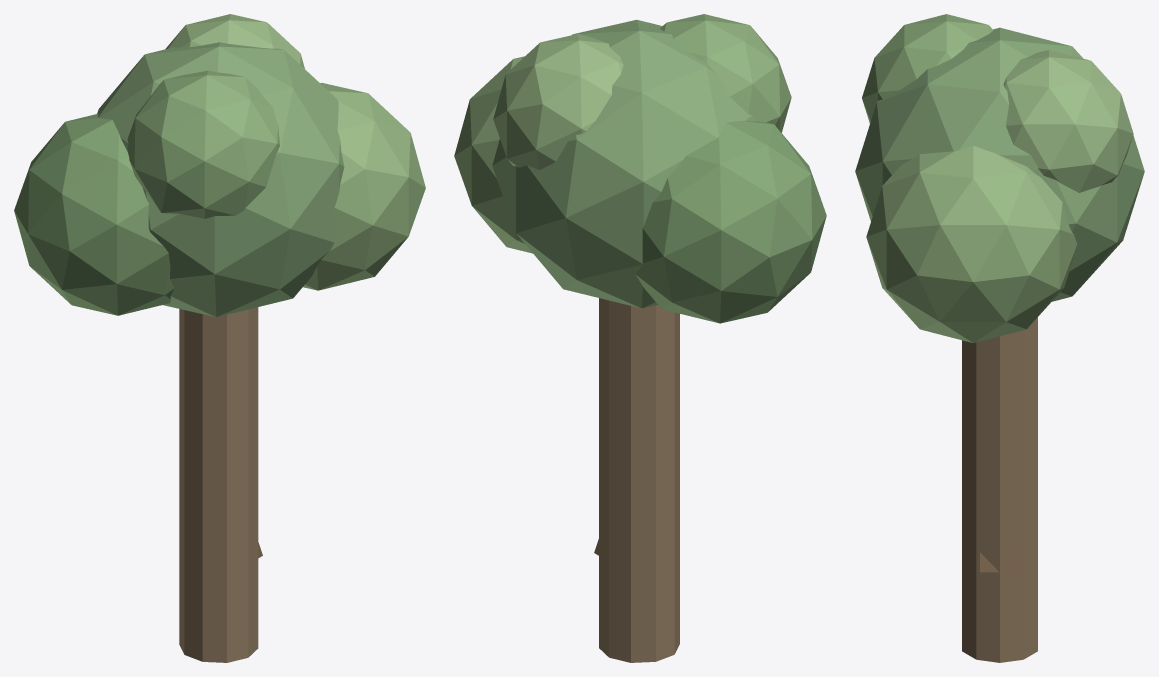
The model's file is eik.glb.
The picture shows the model from 3 angles, left to right: view 1: azimuth 30°, elevation 25°; view 2: azimuth 150°, elevation 25°; view 3: azimuth 270°, elevation 25°; orthographic projection. The views are drawn at different scales.
Visible parts, largest first — view 1: world; view 2: world; view 3: world.
Boxes of the visible parts, box(x1,y1,x2,y2) form: world: box(14, 14, 425, 662); world: box(454, 14, 826, 662); world: box(855, 14, 1144, 662).
Size of the model in its own units: 1.88 by 3 by 1.3.
